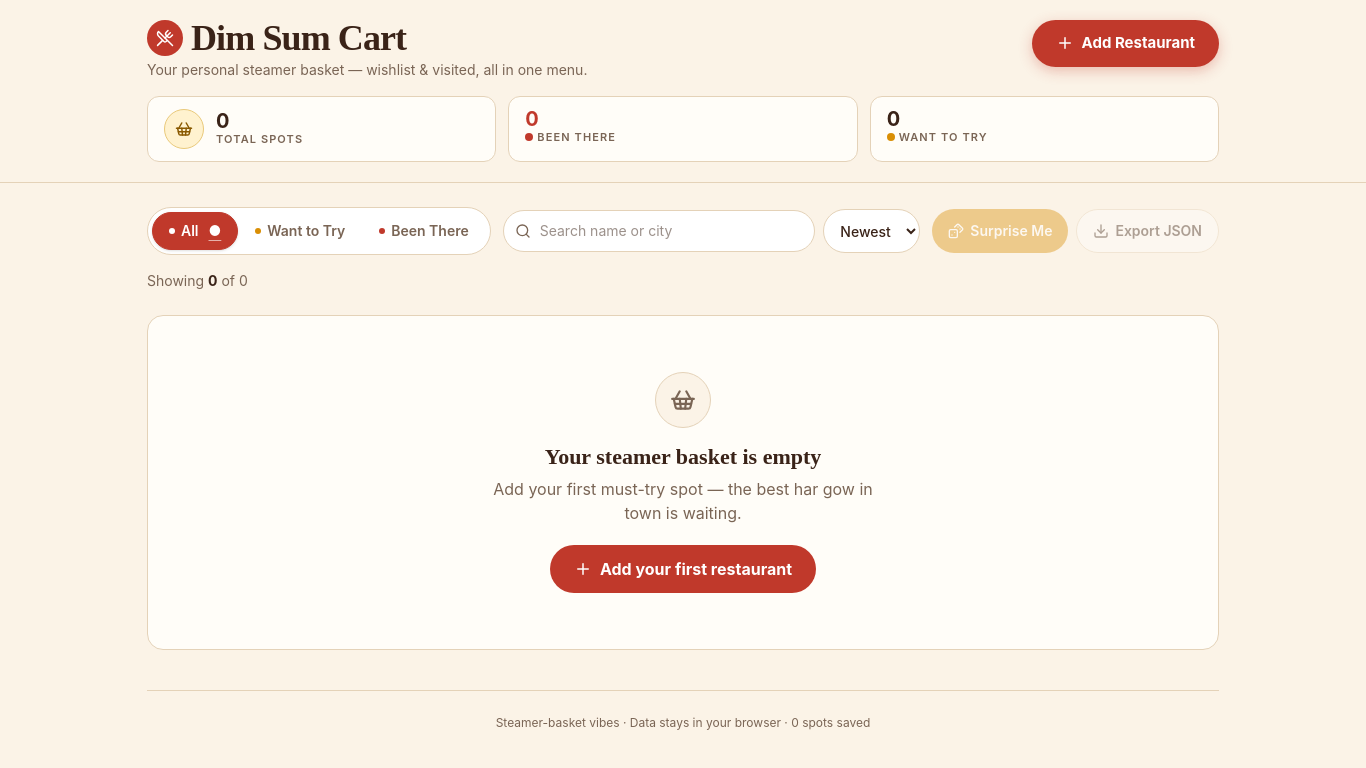
RatingInput › renders 5 dumpling icons
Click the button "Add Restaurant".
click(1125, 43)  # box left=1032, top=20, right=1219, bottom=66
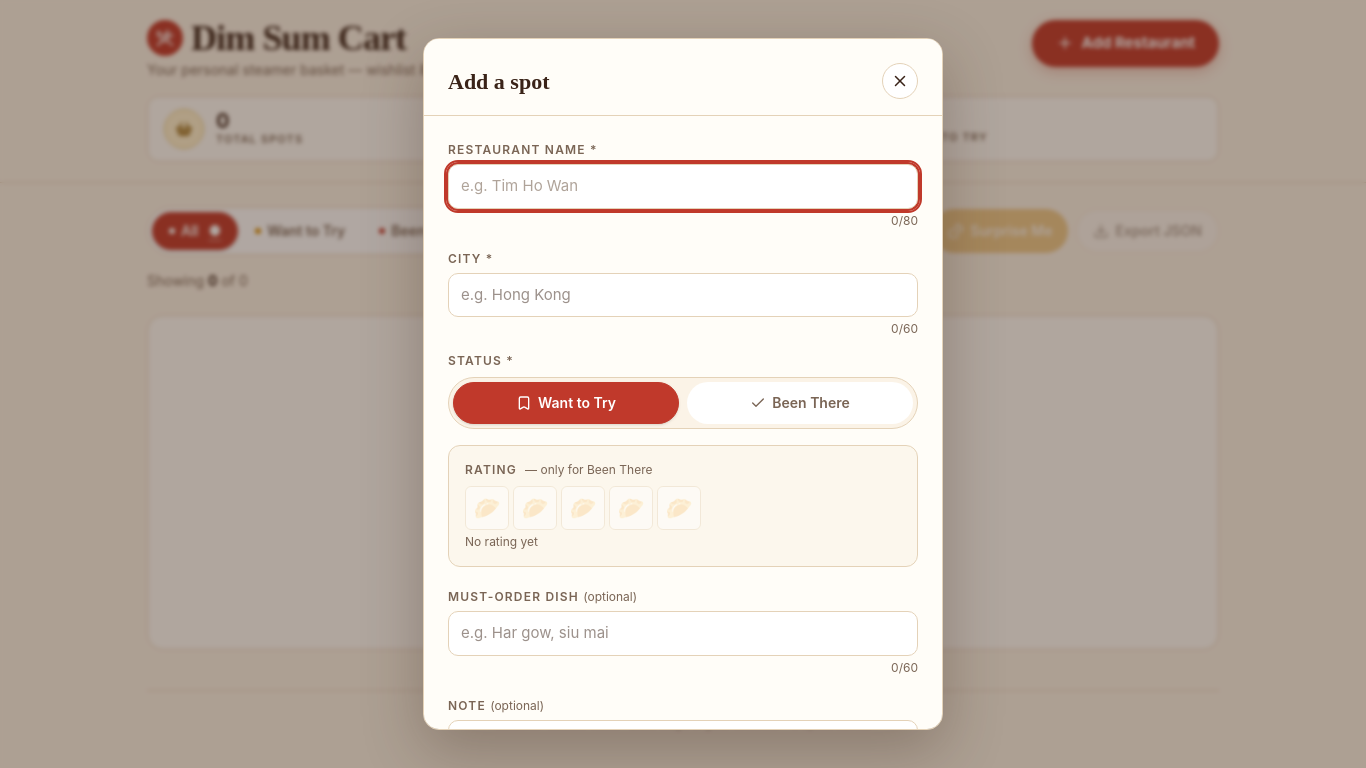
Expected: the number of radio buttons is 5, left=465, top=486, right=509, bottom=530; left=513, top=486, right=557, bottom=530; left=561, top=486, right=605, bottom=530; left=609, top=486, right=653, bottom=530; left=657, top=486, right=701, bottom=530
